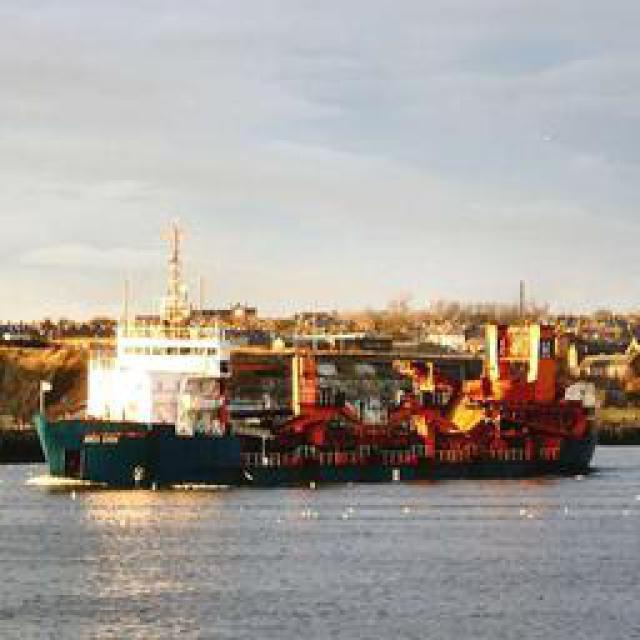Ship: (25, 270, 609, 492)
